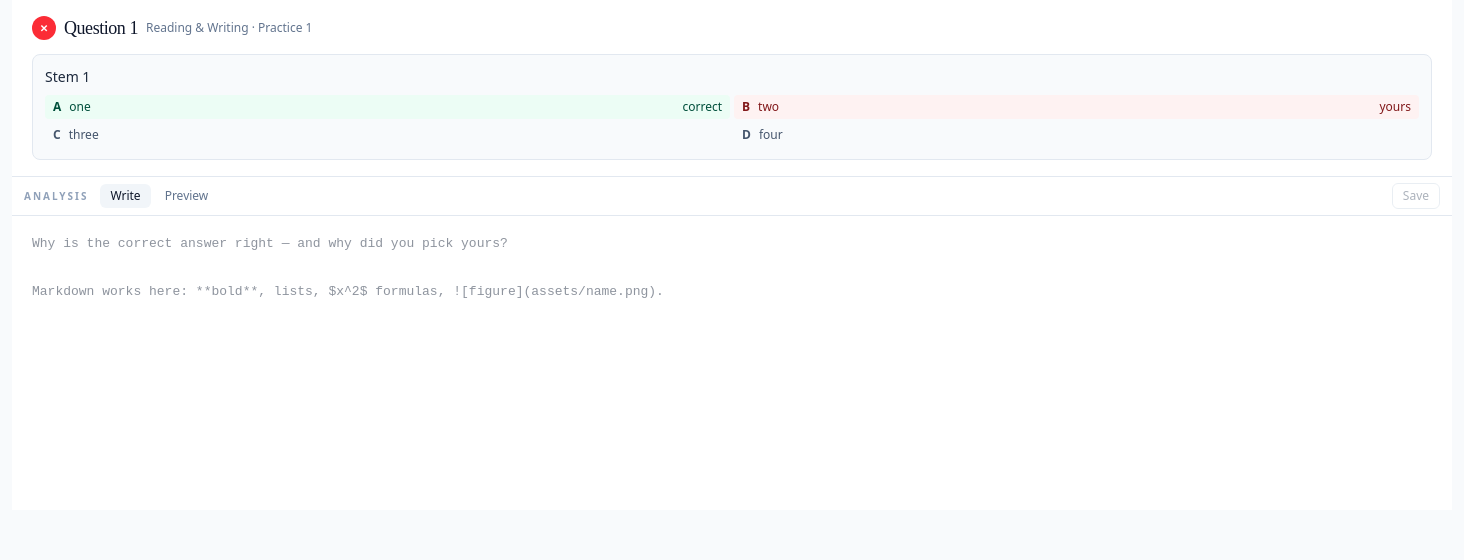
Scenario: AnalysisEditor › surfaces a save error
This screenshot has width=1464, height=560.
Step 1. Replace the text in the text box named "Analysis" with "x" → [732, 360], box [12,216,1452,504]
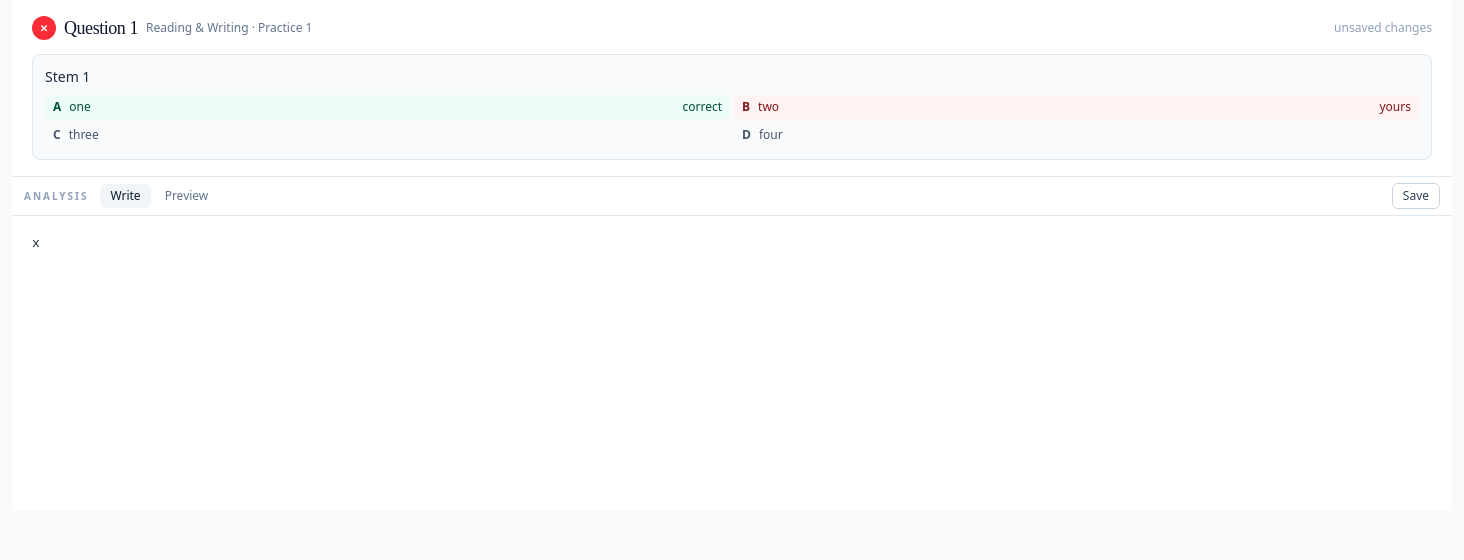
Step 2. Click the button "Save" → [1416, 196], box [1392,183,1440,209]
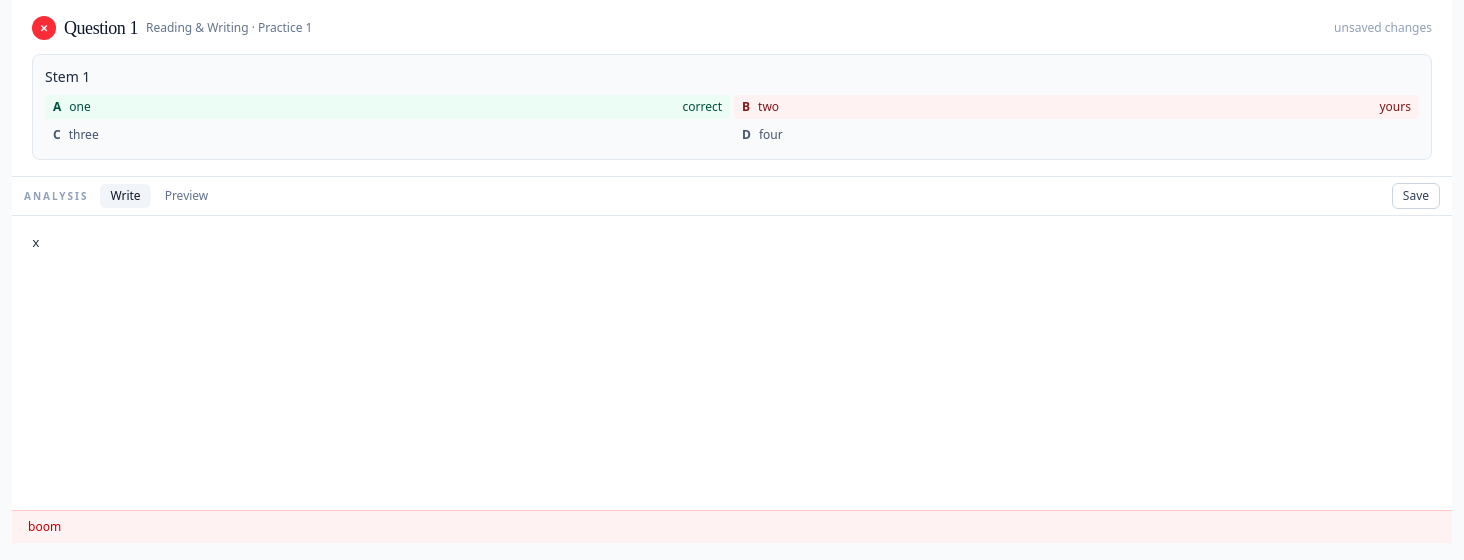
Now the text "boom" is shown, box [12,510,1452,543]
